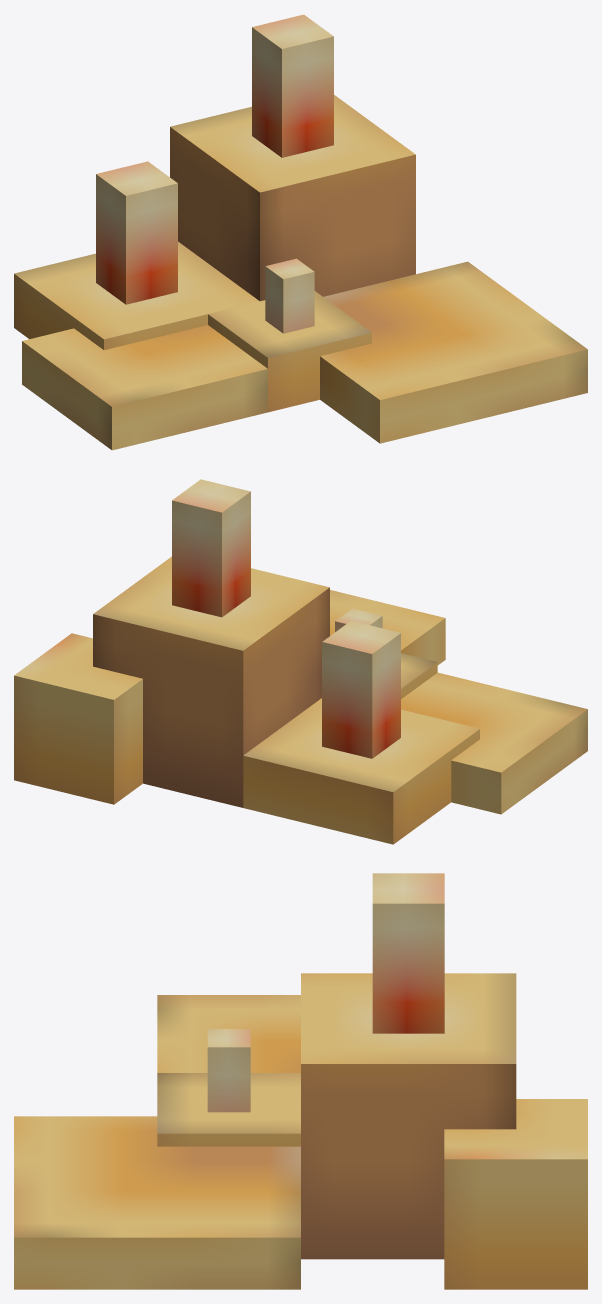
The model's file is candle_arrangement_05_lit.fbx.
The picture shows the model from 3 angles, top to bottom: view 1: azimuth 30°, elevation 25°; view 2: azimuth 150°, elevation 25°; view 3: azimuth 270°, elevation 25°; orthographic projection. The views are drawn at different scales.
Visible parts, largest first — view 1: candle_arrangement_05_lit; view 2: candle_arrangement_05_lit; view 3: candle_arrangement_05_lit.
Part boxes in pixels (x1=…): candle_arrangement_05_lit: x1=14, y1=14, x2=587, y2=450; candle_arrangement_05_lit: x1=14, y1=479, x2=587, y2=844; candle_arrangement_05_lit: x1=14, y1=873, x2=587, y2=1289.
Size of the model in its own units: 8 by 5 by 8.
